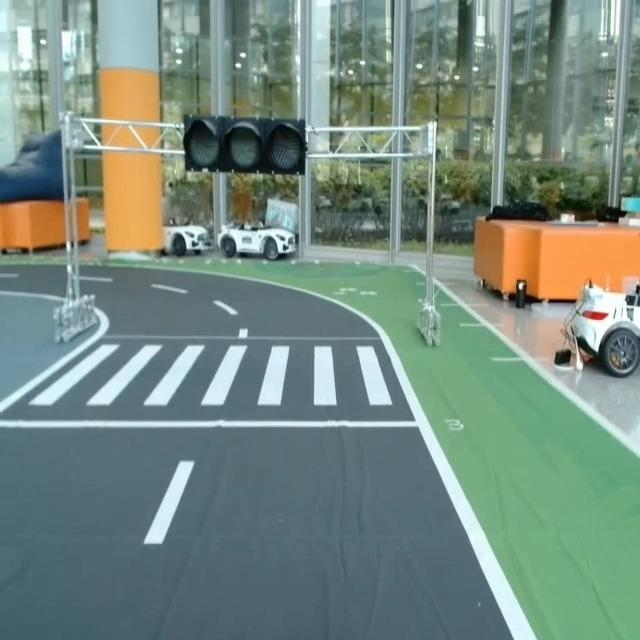traffic-light: (180, 111, 313, 177)
